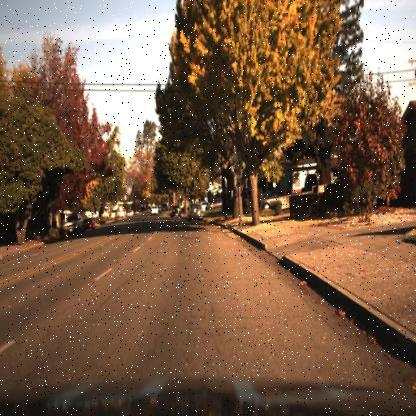car: (257, 186, 293, 214), (61, 204, 84, 238), (258, 189, 279, 210), (185, 201, 204, 223), (186, 201, 205, 222), (203, 198, 228, 213), (82, 214, 99, 233), (167, 202, 182, 221), (170, 203, 182, 219), (150, 203, 160, 219)
